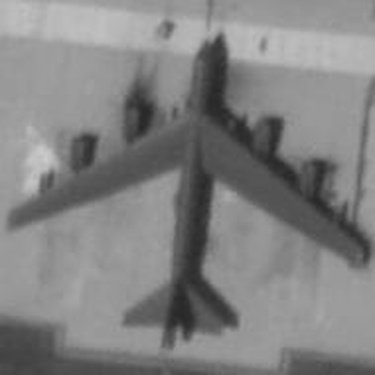airplane: (2, 21, 369, 362)
